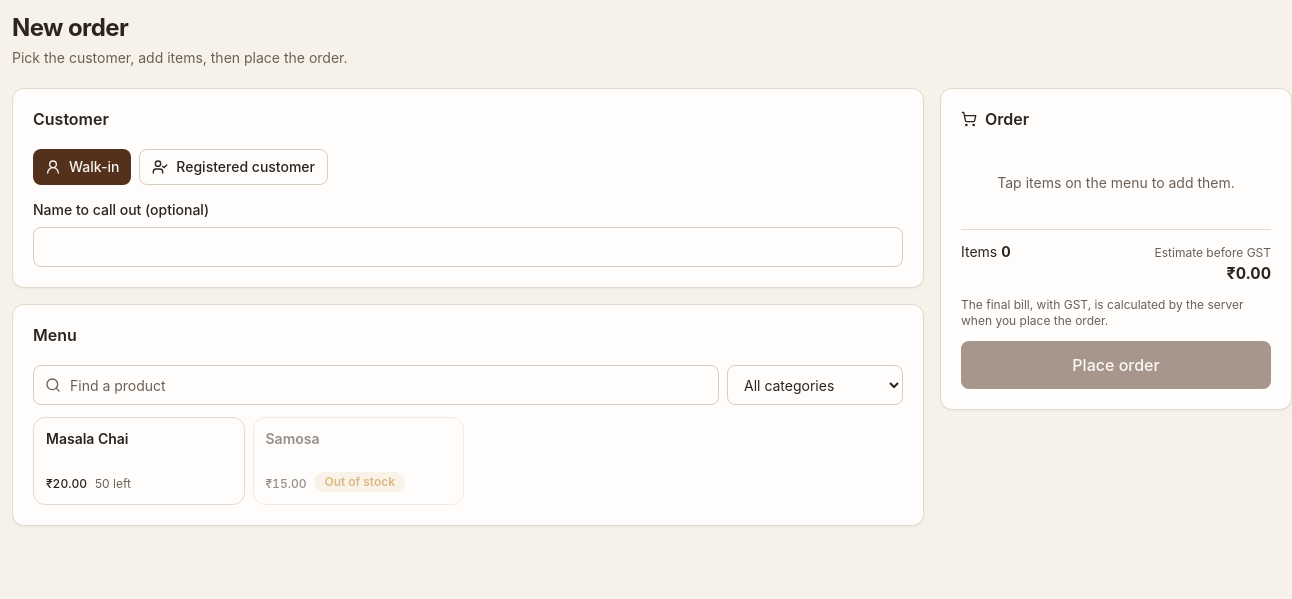
POS › warns that the order may exist after a dropped connection
Click the button "Masala Chai ₹20.00 50 left" at (139, 461), box [33,417,244,505]
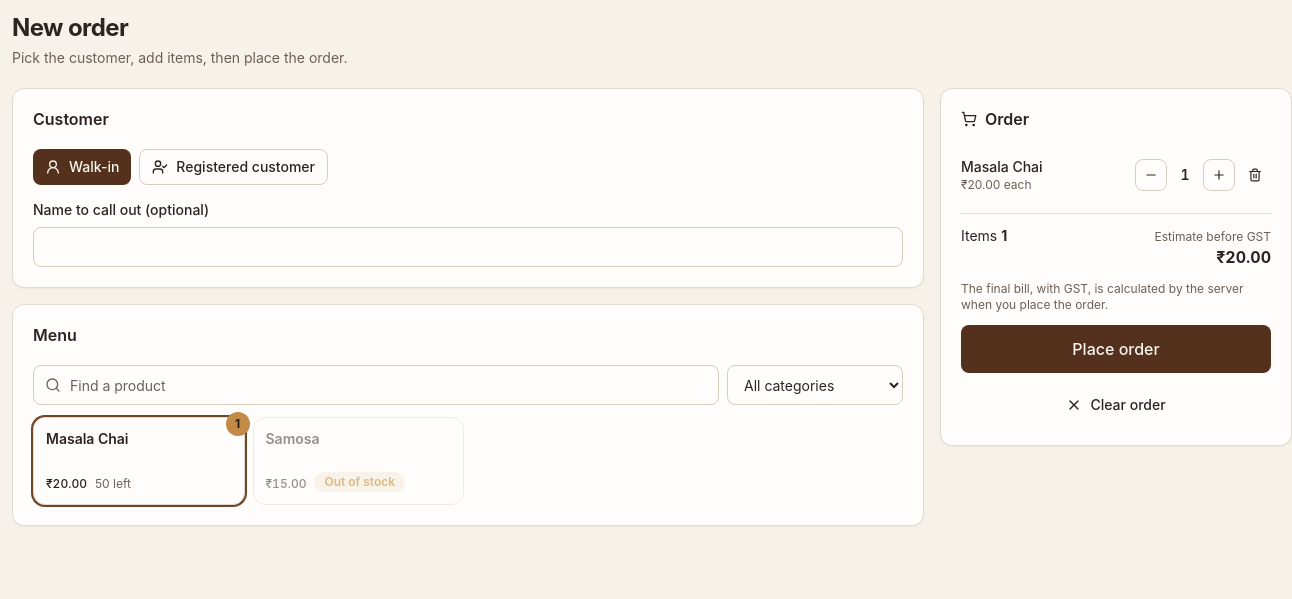
Click the button "Place order" at (1116, 349), box [961,325,1271,373]
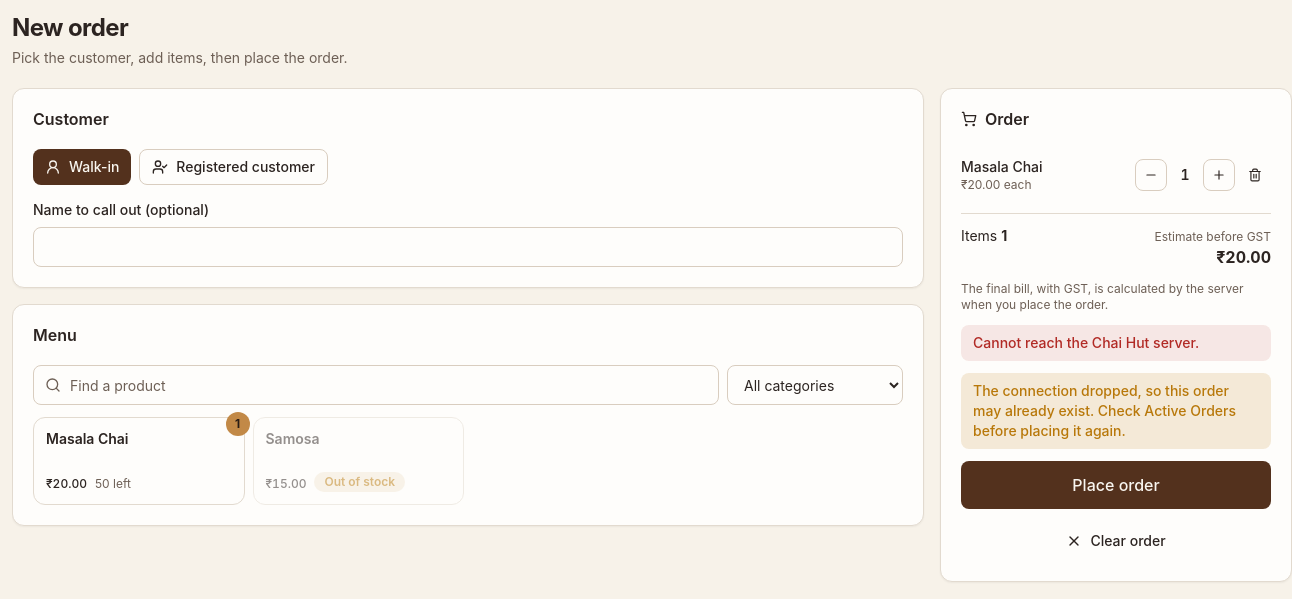
expect the text "may already exist" is shown: met, box [973,382,1236,439]
